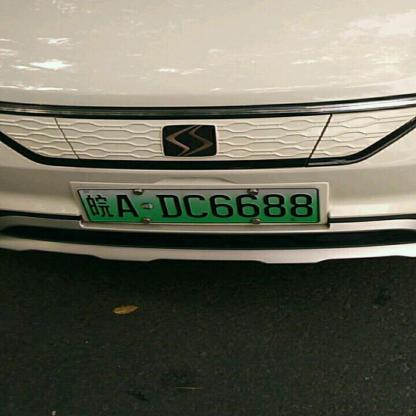lp: (77, 190, 319, 223)
